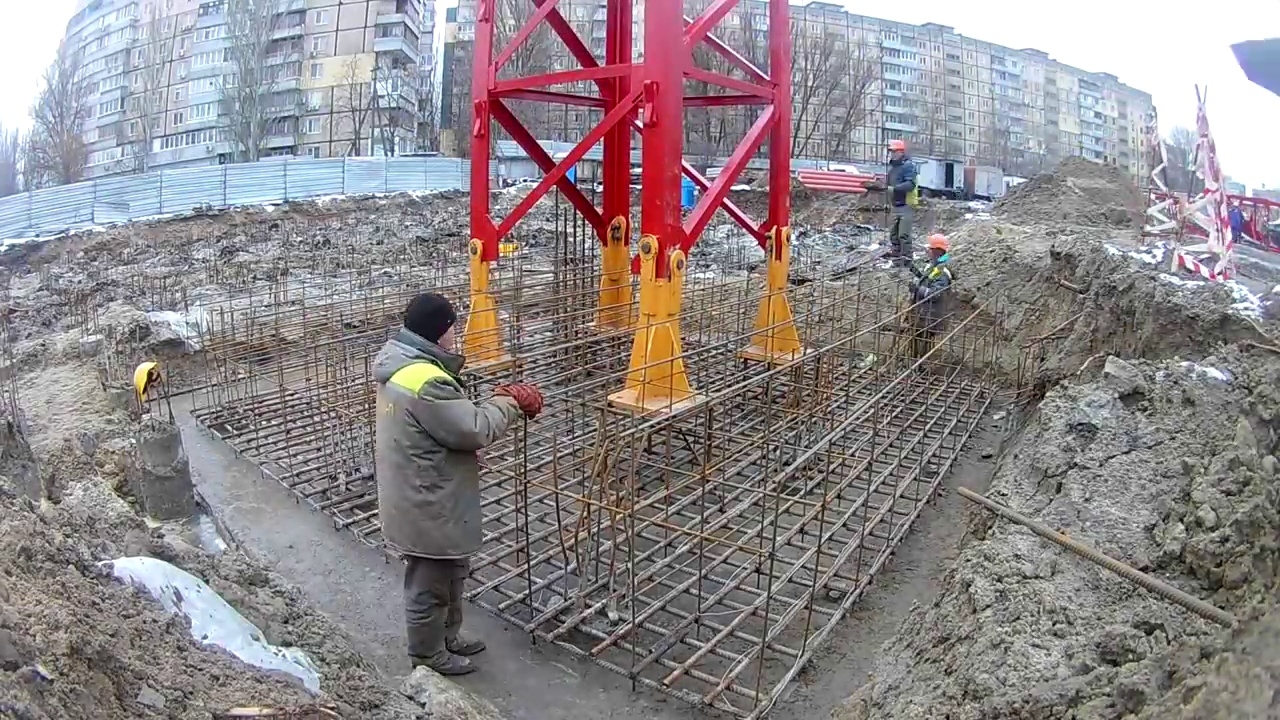helmet: (133, 361, 160, 405), (926, 234, 950, 252), (887, 139, 906, 151)
helmet-off: (400, 294, 457, 358)
helmet-on: (926, 234, 950, 262), (887, 139, 906, 162)
person: (367, 291, 544, 686), (878, 140, 921, 268), (911, 234, 957, 352)
